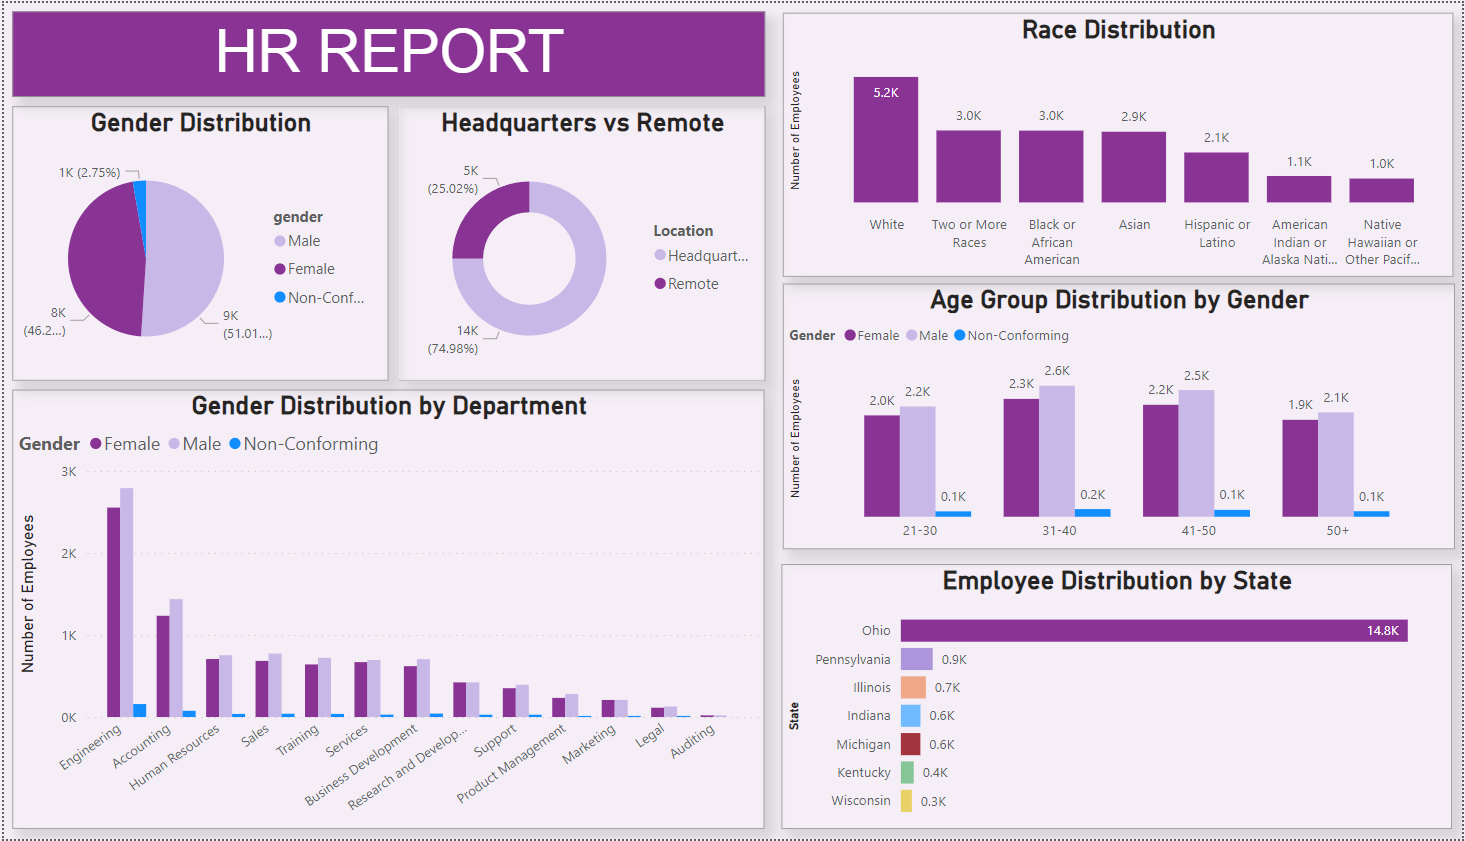

Layout of this report page (visuals, bound fields, positions):
{"tool":"powerbi","page":{"name":"Page 1","canvas":[1306,748],"ordinal":0},"visuals":[{"type":"textbox","box":[7.8,7.8,673.8,77],"z":0},{"type":"pieChart","title":"Gender Distribution","fields":{"Category":["gender.gender"],"Y":["Sum(gender.Count)"]},"box":[7.8,92.6,336.9,245.4],"z":1000},{"type":"clusteredColumnChart","title":"Gender Distribution by Department","fields":{"Category":["gender - department.Column1"],"Series":["gender - department.Column2"],"Y":["Sum(gender - department.Column3)"]},"box":[8,346.1,673.7,393.2],"z":2000},{"type":"donutChart","title":"Headquarters vs Remote","fields":{"Y":["Sum(remote.count)"],"Category":["remote.location"]},"box":[353.7,92.6,328,245.4],"z":3000},{"type":"columnChart","title":"Race Distribution","fields":{"Category":["race.Column1"],"Y":["Sum(race.Column2)"]},"box":[697,8.2,600.5,236.1],"z":4000},{"type":"clusteredColumnChart","title":"Age Group Distribution by Gender","fields":{"Category":["age group distribution by gender.Column1"],"Y":["Sum(age group distribution by gender.Column3)"],"Series":["age group distribution by gender.Column2"]},"box":[697,251.5,601.5,238.1],"z":5000},{"type":"clusteredBarChart","title":"Employee Distribution by State","fields":{"Category":["state.location_state"],"Y":["Sum(state.Count)"]},"box":[696.7,502.4,600.2,236.8],"z":6000}]}

Visuals, with their boxes in screenshot pixels (x1, y1, x2, y2), scaled from the page's 1306x748 canvas onto the 1465x841 screenshot:
textbox: 9,9,765,95
"Gender Distribution" pieChart: 9,104,387,380
"Gender Distribution by Department" clusteredColumnChart: 9,389,765,831
"Headquarters vs Remote" donutChart: 397,104,765,380
"Race Distribution" columnChart: 782,9,1455,275
"Age Group Distribution by Gender" clusteredColumnChart: 782,283,1457,550
"Employee Distribution by State" clusteredBarChart: 782,565,1455,831
